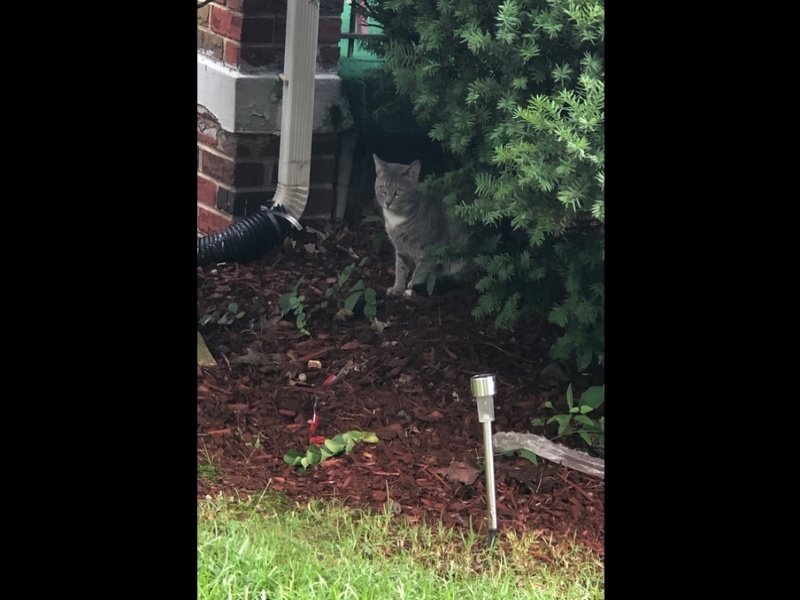cat: (370, 150, 515, 299)
